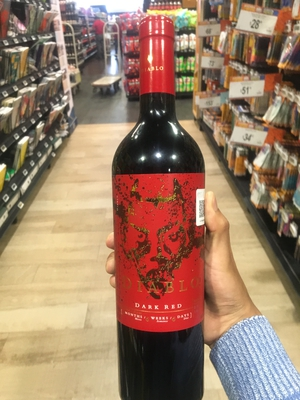diablo dark red: (106, 34, 224, 373)
